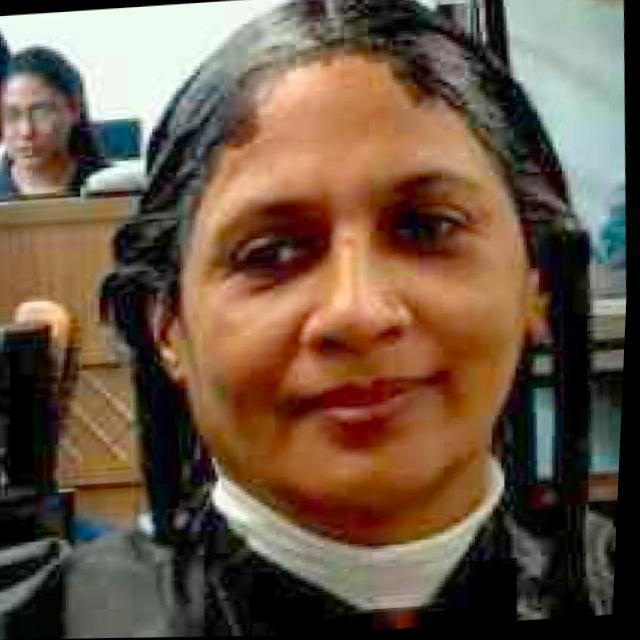puffy_eyes: (392, 240, 474, 261)
